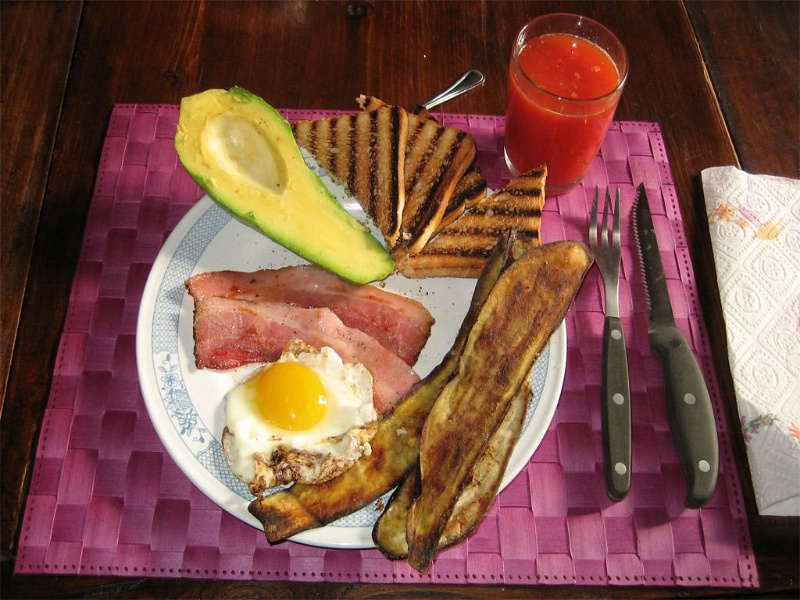knife: (629, 179, 739, 511)
